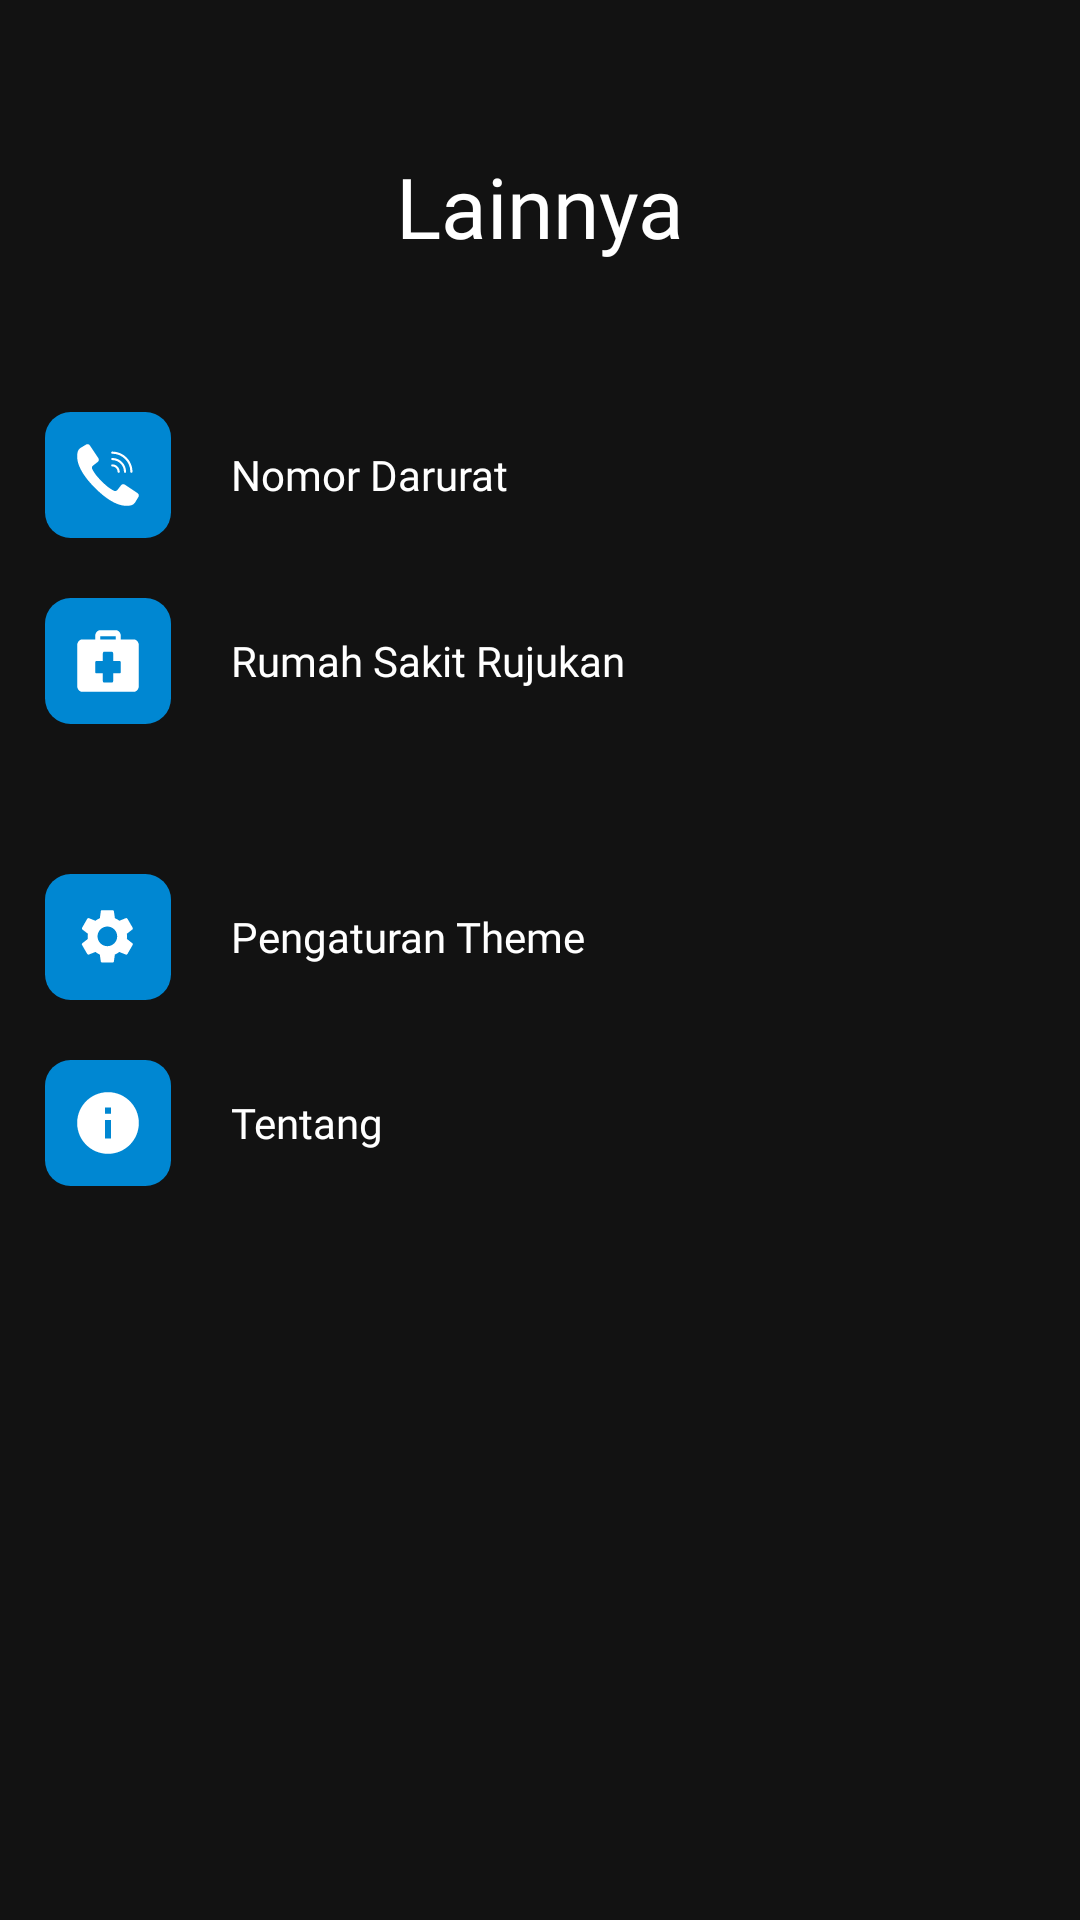

Icons on this 1080 × 1920 Android screen, each with the point to tap as point (x, y):
about: point (108, 1123)
hospital: point (108, 661)
phone: point (108, 475)
settings menu: point (108, 937)
